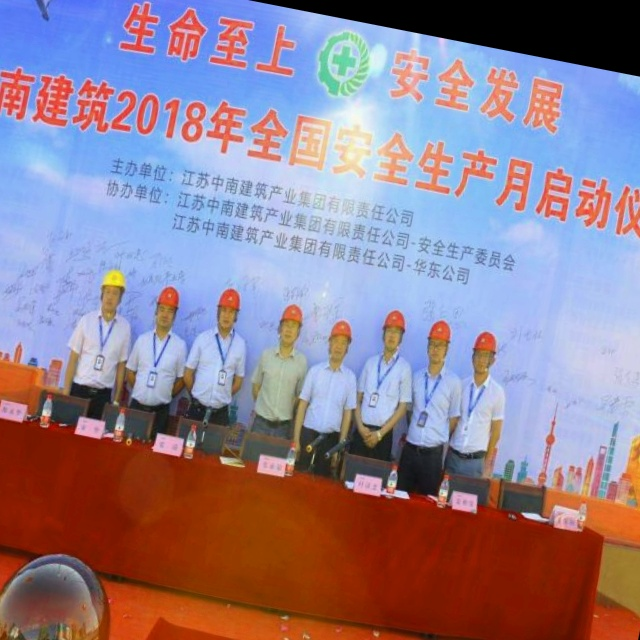Sin_Chaleco: (180, 322, 253, 412), (296, 356, 362, 441), (246, 342, 311, 427)
